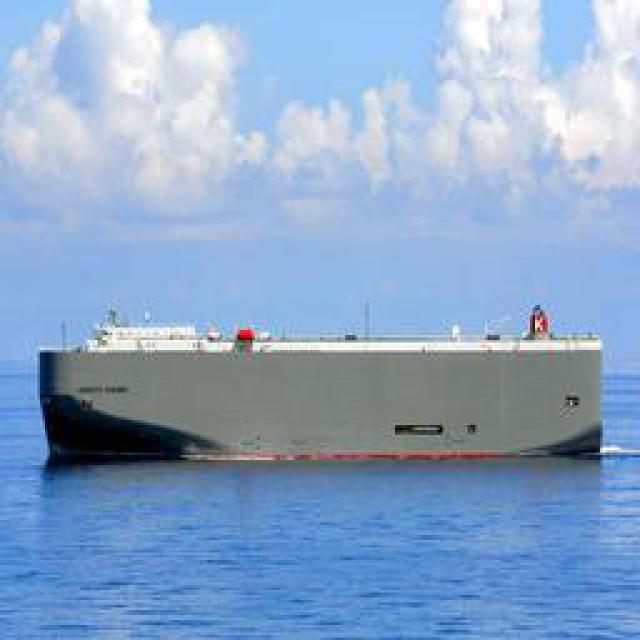Ship: (46, 321, 596, 469)
